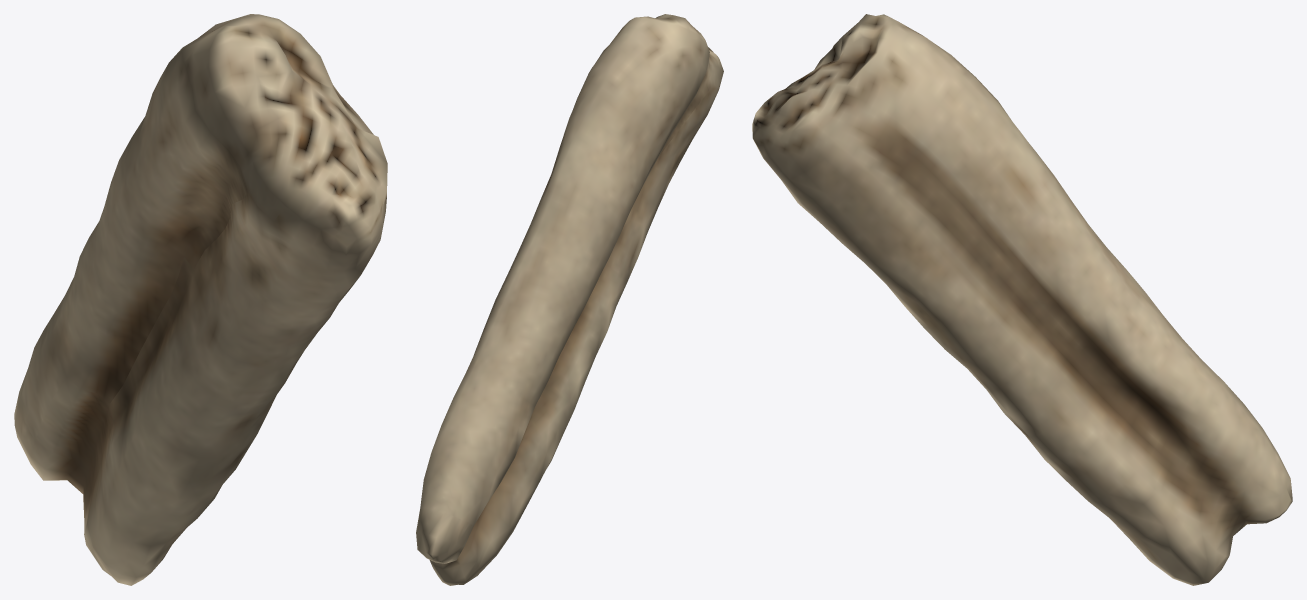
File: Mandibular_Premolar2.glb
The picture shows the model from 3 angles, left to right: view 1: azimuth 30°, elevation 25°; view 2: azimuth 150°, elevation 25°; view 3: azimuth 270°, elevation 25°; orthographic projection. The views are drawn at different scales.
Parts seen in each view (by area): view 1: Mandibular_Premolar2.glb; view 2: Mandibular_Premolar2.glb; view 3: Mandibular_Premolar2.glb.
Part boxes in pixels (x1,y1,x2,y2): Mandibular_Premolar2.glb: [14, 14, 387, 585]; Mandibular_Premolar2.glb: [416, 14, 723, 585]; Mandibular_Premolar2.glb: [752, 14, 1292, 585].
Bounding box in the file's own units: 0.0213 × 0.0758 × 0.0702.
Materials: 1 (1 with a texture image).
